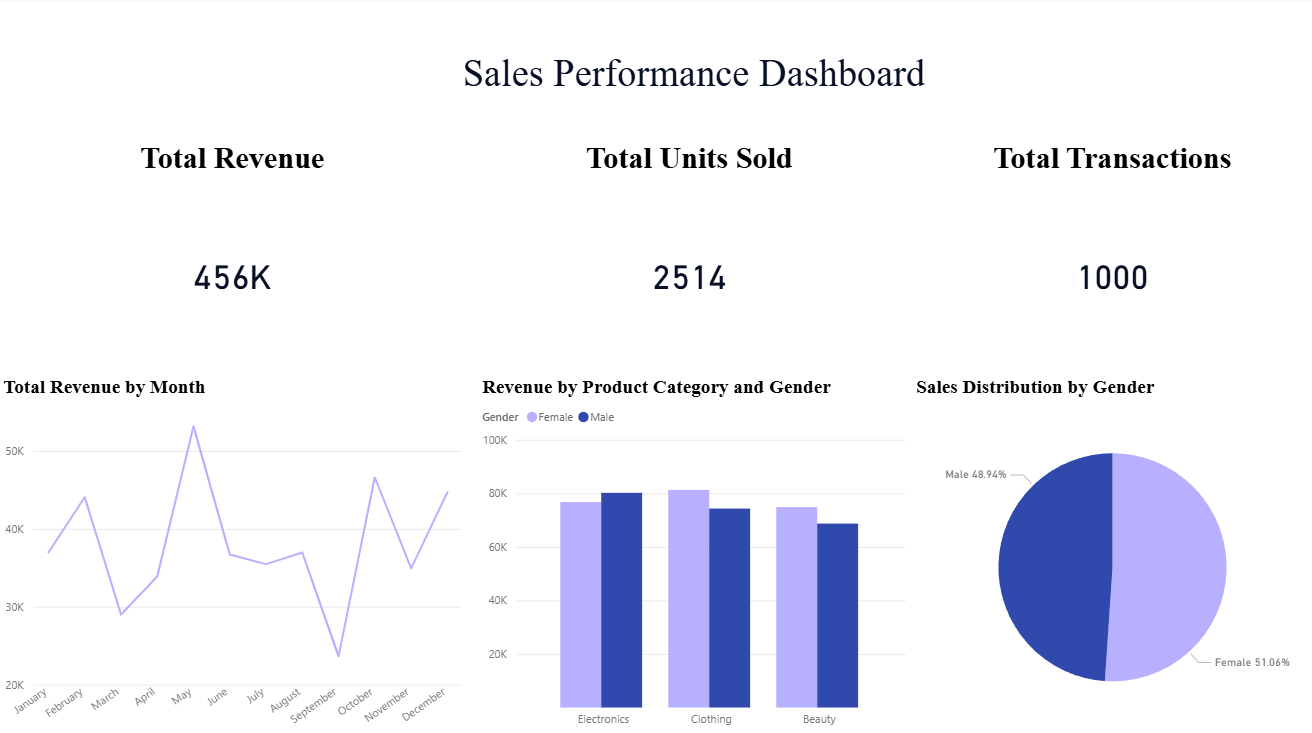

This screenshot's page, from the dashboard's own definition file:
{"tool":"powerbi","page":{"name":"Page 1","canvas":[1280,720],"ordinal":0},"visuals":[{"type":"lineChart","title":"Total Revenue by Month","fields":{"Category":["Sales Dataset.Date.Variation.Date Hierarchy.Month"],"Y":["Sum(Sales Dataset.Total Amount)"]},"box":[0,368.6,456.2,351.1],"z":0},{"type":"clusteredColumnChart","title":"Revenue by Product Category and Gender","fields":{"Category":["Sales Dataset.Product Category"],"Series":["Sales Dataset.Gender"],"Y":["Sum(Sales Dataset.Total Amount)"]},"box":[465.9,368.6,422.1,351.1],"z":1000},{"type":"pieChart","title":"Sales Distribution by Gender","fields":{"Category":["Sales Dataset.Gender"],"Y":["Sum(Sales Dataset.Total Amount)"]},"box":[888,368.6,392,351.1],"z":2000},{"type":"textbox","box":[349.7,47.7,653.6,56.5],"z":3000},{"type":"card","title":"Total Revenue","fields":{"Values":["Sum(Sales Dataset.Total Amount)"]},"box":[0,140.3,455.9,227.9],"z":4000},{"type":"card","title":"Total Units Sold","fields":{"Values":["Sum(Sales Dataset.Quantity)"]},"box":[455.9,140.3,432.5,227.9],"z":5000},{"type":"card","title":"Total Transactions","fields":{"Values":["CountNonNull(Sales Dataset.ID)"]},"box":[888.4,140.3,391.6,227.9],"z":6000}]}

Visuals, with their boxes in screenshot pixels (x1, y1, x2, y2), scaled from the page's 1280x720 canvas onto the 1312x733 screenshot:
"Total Revenue by Month" lineChart: 0, 375, 468, 732
"Revenue by Product Category and Gender" clusteredColumnChart: 478, 375, 910, 732
"Sales Distribution by Gender" pieChart: 910, 375, 1311, 732
textbox: 358, 49, 1028, 106
"Total Revenue" card: 0, 143, 467, 375
"Total Units Sold" card: 467, 143, 911, 375
"Total Transactions" card: 911, 143, 1311, 375
